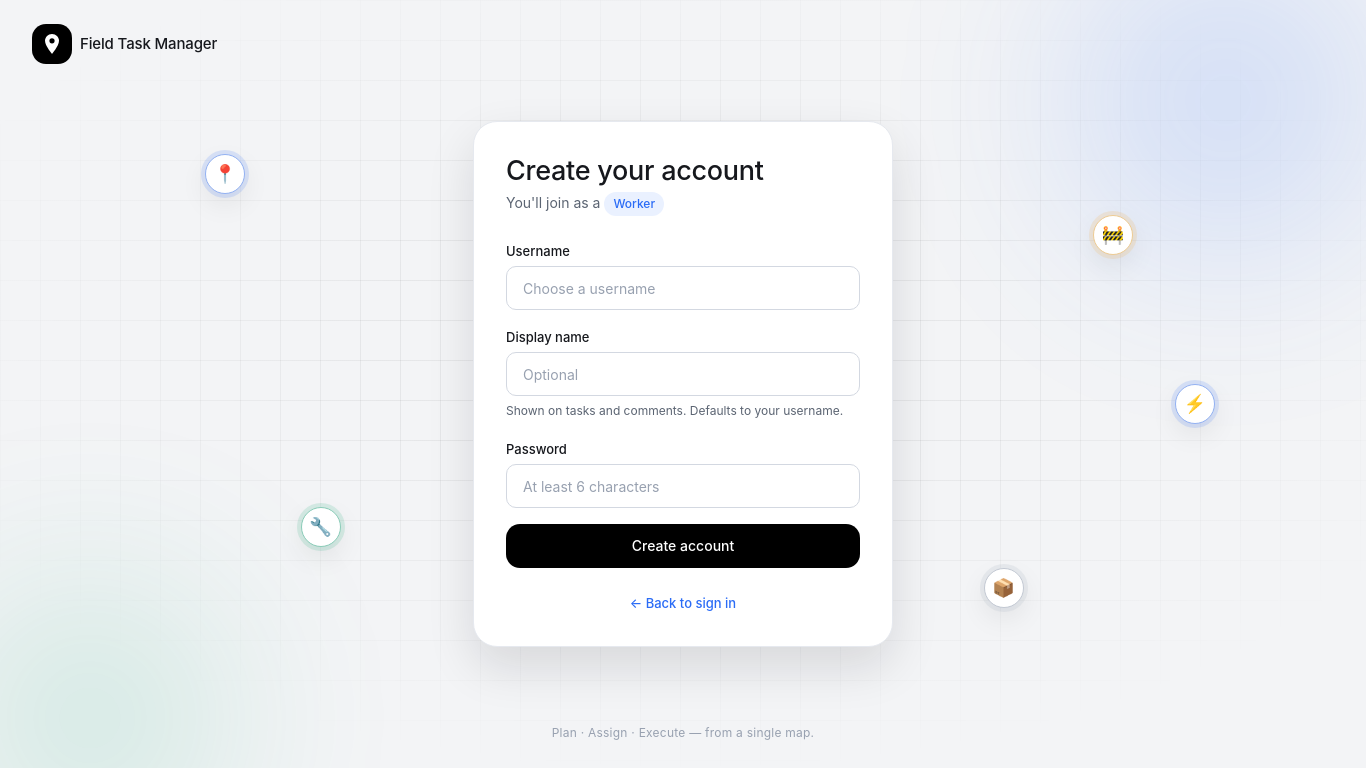
Test case: RegisterComponent › shows a username-taken error on 409
Type "bob" into the field with id "reg-username" at (683, 288), box top-left (506, 266), bottom-right (860, 310)
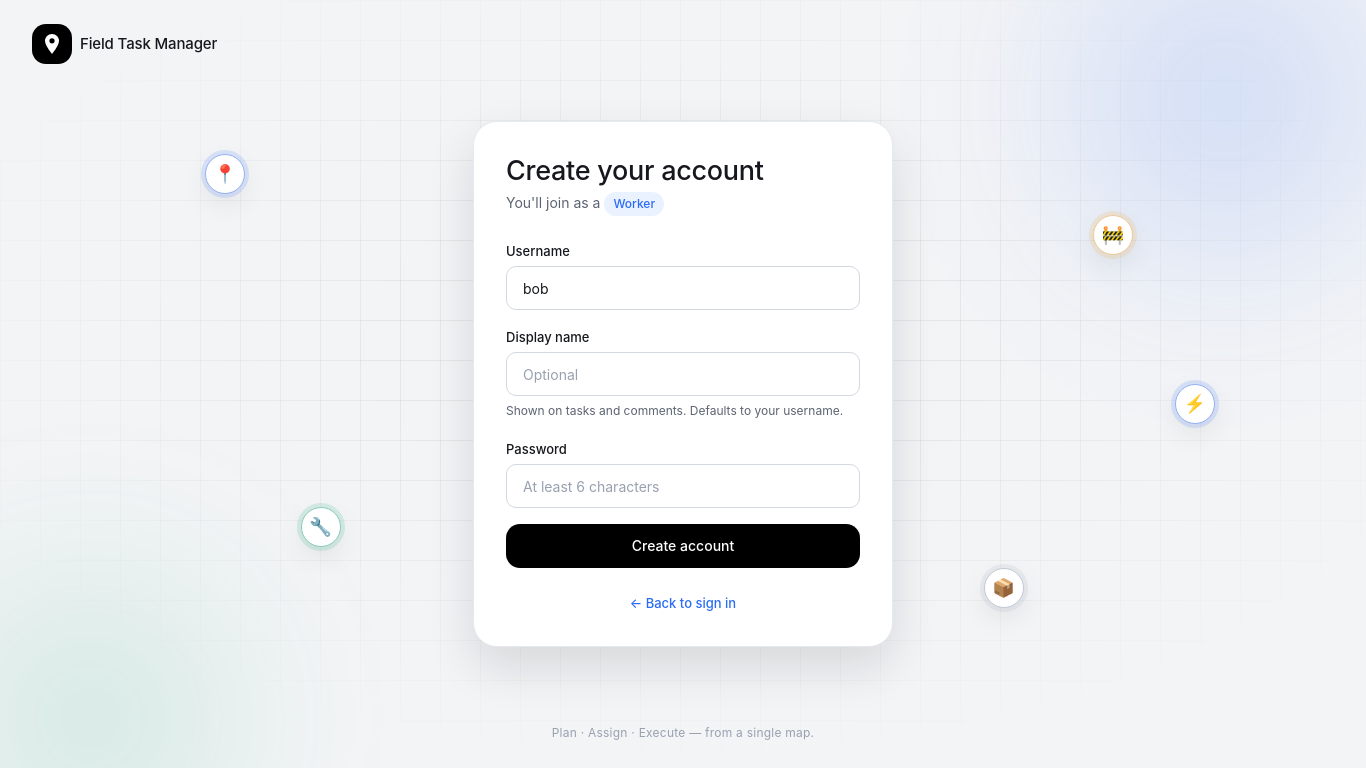
Type "secret1" into the password field with id "reg-password" at (683, 486), box top-left (506, 464), bottom-right (860, 508)
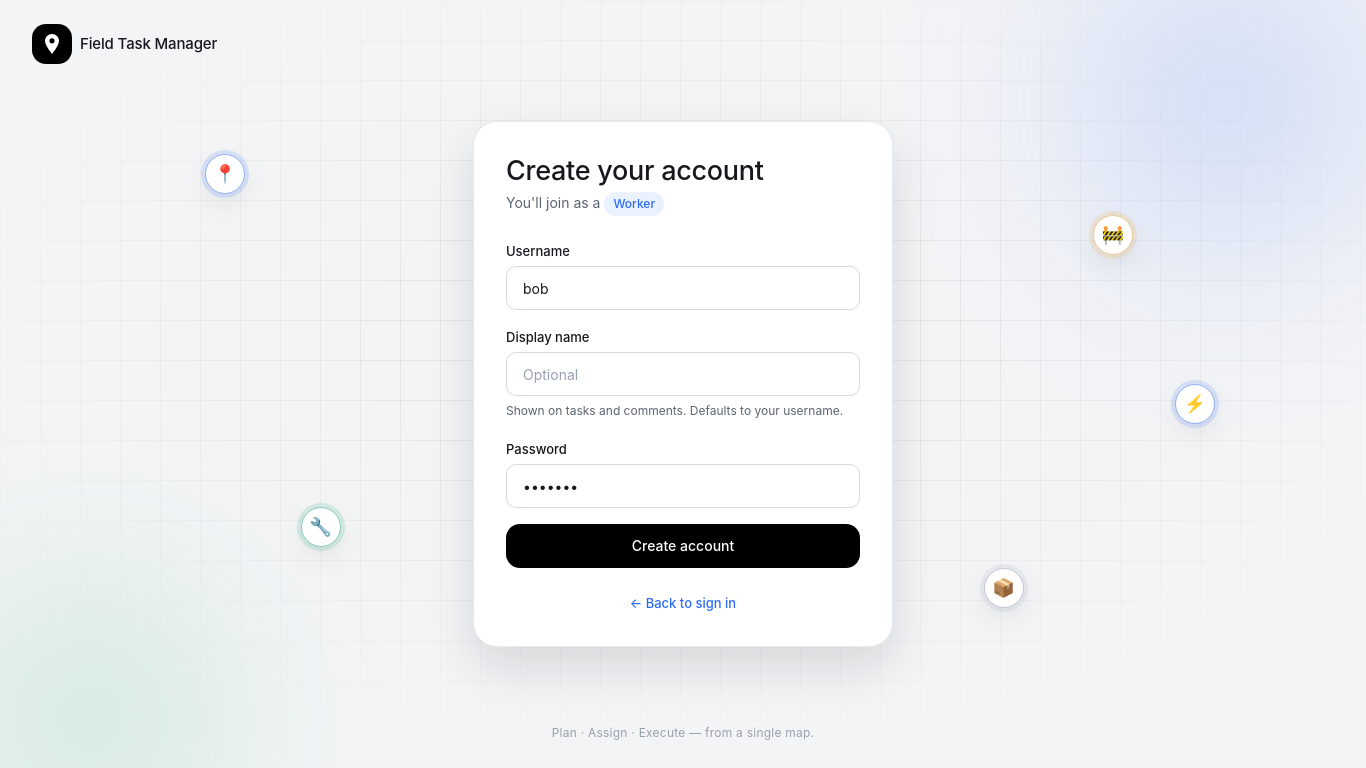
Submit the form, box top-left (506, 240), bottom-right (860, 568)
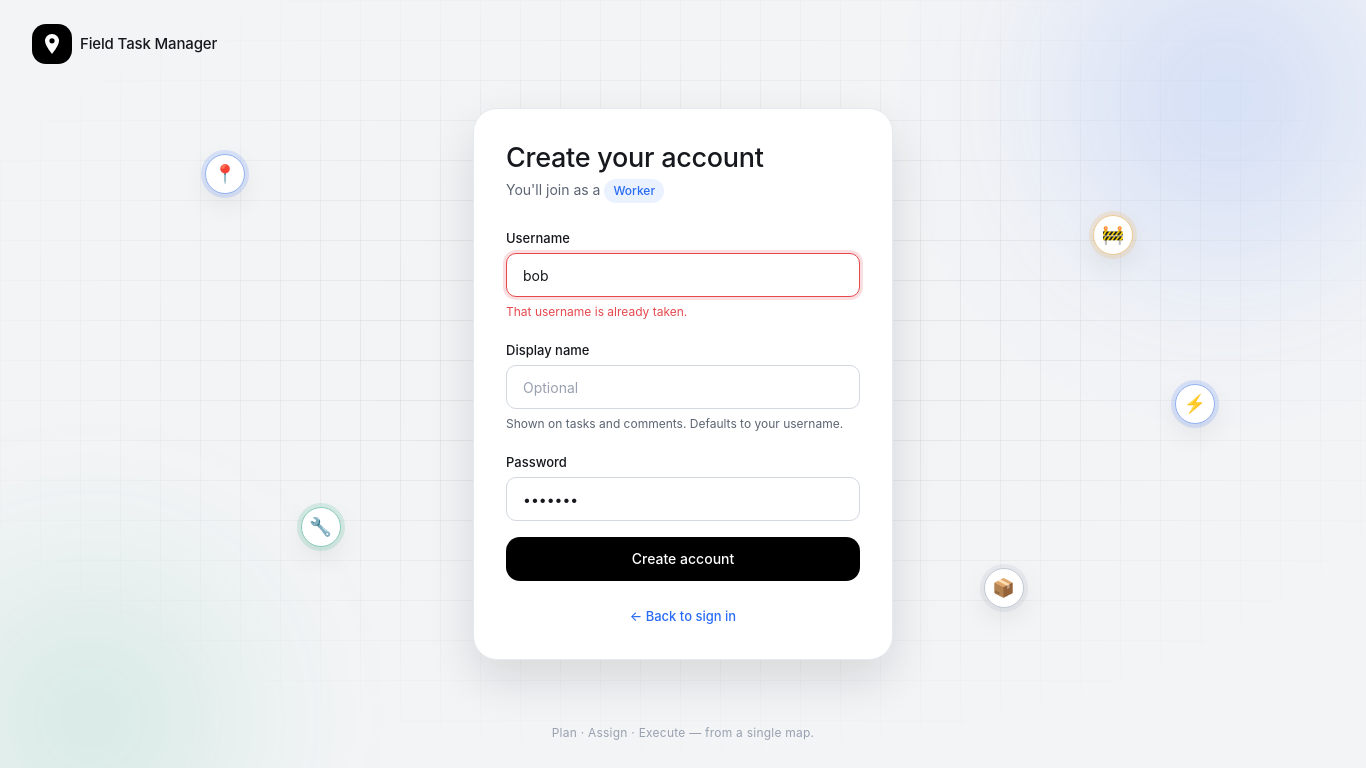
Now the text "That username is already taken." is shown, box top-left (506, 304), bottom-right (687, 319)
